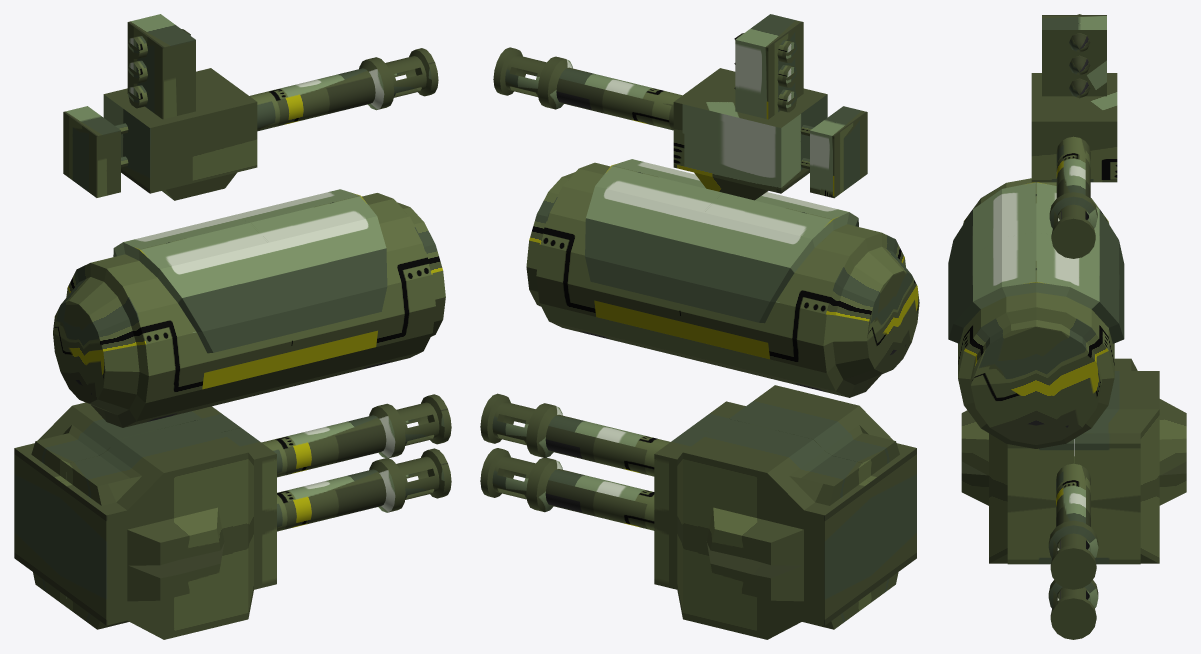
Rendered from turrets_4.glb.
3 views of the same model, side by side, from view 1: azimuth 30°, elevation 25°; view 2: azimuth 150°, elevation 25°; view 3: azimuth 270°, elevation 25° (orthographic). The views are drawn at different scales.
Parts seen in each view (by area): view 1: Turret2, Turret3, Turret1, Cannon.002, Cannon, Cannon.001, Turret1.001; view 2: Turret2, Turret3, Turret1, Cannon.002, Cannon, Cannon.001, Turret1.001; view 3: Turret2, Turret3, Turret1, Cannon.002, Cannon, Cannon.001.
Boxes of the visible parts, <box> form: Turret2: <box>53,189,445,427</box>; Turret3: <box>14,402,276,639</box>; Turret1: <box>103,14,257,200</box>; Cannon.002: <box>261,394,451,477</box>; Cannon: <box>249,48,438,131</box>; Cannon.001: <box>277,448,451,531</box>; Turret1.001: <box>63,106,128,197</box>; Turret2: <box>526,159,919,397</box>; Turret3: <box>654,385,916,639</box>; Turret1: <box>673,14,827,200</box>; Cannon.002: <box>480,393,670,476</box>; Cannon: <box>493,47,682,130</box>; Cannon.001: <box>480,448,654,530</box>; Turret1.001: <box>801,106,867,198</box>; Turret2: <box>948,178,1124,448</box>; Turret3: <box>961,358,1186,564</box>; Turret1: <box>1031,14,1117,182</box>; Cannon.002: <box>1048,456,1098,589</box>; Cannon: <box>1049,136,1097,258</box>; Cannon.001: <box>1048,580,1098,639</box>.
Bounding box in the file's own units: 1.15 × 1.64 × 0.6757.
Materials: 10 (10 with a texture image).
